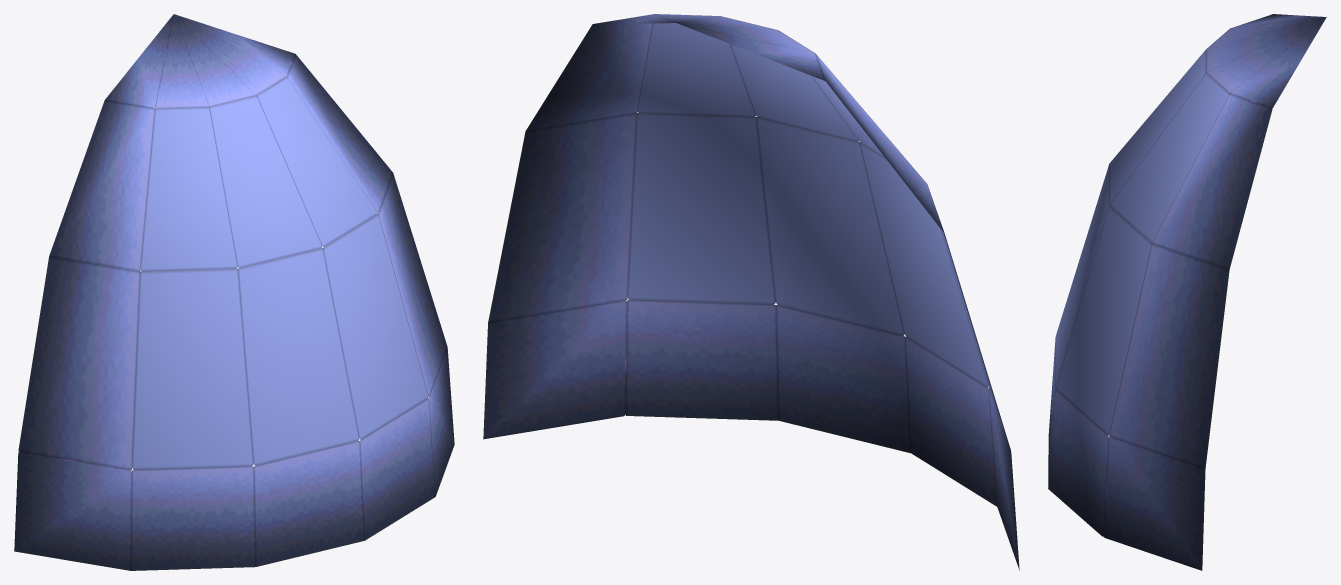
3 views of the same model, side by side, from view 1: azimuth 30°, elevation 25°; view 2: azimuth 150°, elevation 25°; view 3: azimuth 270°, elevation 25° (orthographic). The views are drawn at different scales.
Visible parts, largest first — view 1: T1L9M008_7; view 2: T1L9M008_7; view 3: T1L9M008_7.
Part boxes in pixels (box(x1,y1,x2,y2)): T1L9M008_7: box(14, 14, 454, 570); T1L9M008_7: box(483, 14, 1019, 570); T1L9M008_7: box(1048, 14, 1326, 570).
Bounding box in the file's own units: 1.9 × 1.81 × 1.03.
